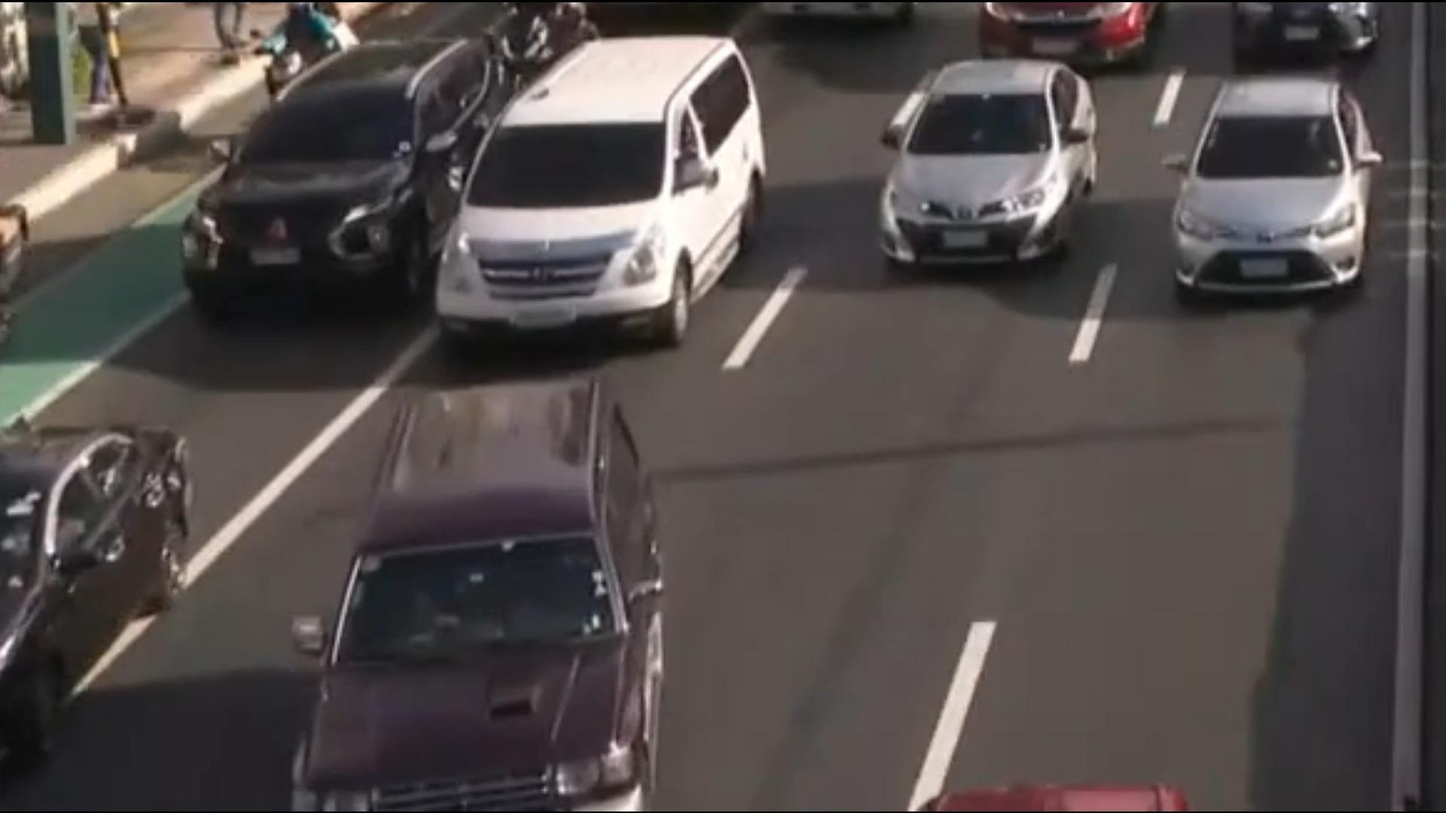SUV: (297, 380, 670, 813), (175, 45, 503, 333)
Sedan: (0, 422, 209, 749), (1167, 77, 1378, 297), (879, 68, 1098, 279)
Van: (422, 36, 770, 356)
